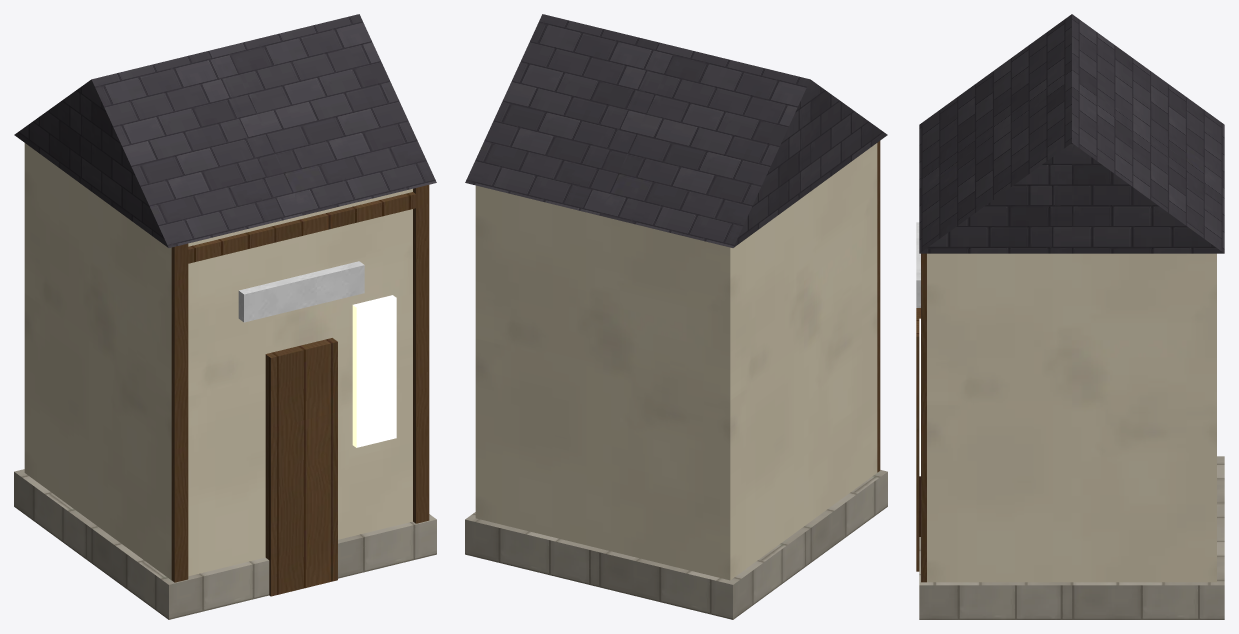
File: category.nft.t1.glb
3 views of the same model, side by side, from view 1: azimuth 30°, elevation 25°; view 2: azimuth 150°, elevation 25°; view 3: azimuth 270°, elevation 25° (orthographic).
Visible parts, largest first — view 1: building.category.nft.t1; view 2: building.category.nft.t1; view 3: building.category.nft.t1.
Boxes of the visible parts, x1,y1,x2,y2 form: building.category.nft.t1: [14, 14, 436, 619]; building.category.nft.t1: [465, 14, 887, 619]; building.category.nft.t1: [916, 14, 1224, 619].
Bounding box in the file's own units: 2 × 3.45 × 2.02.
Materials: 6 (5 with a texture image).
